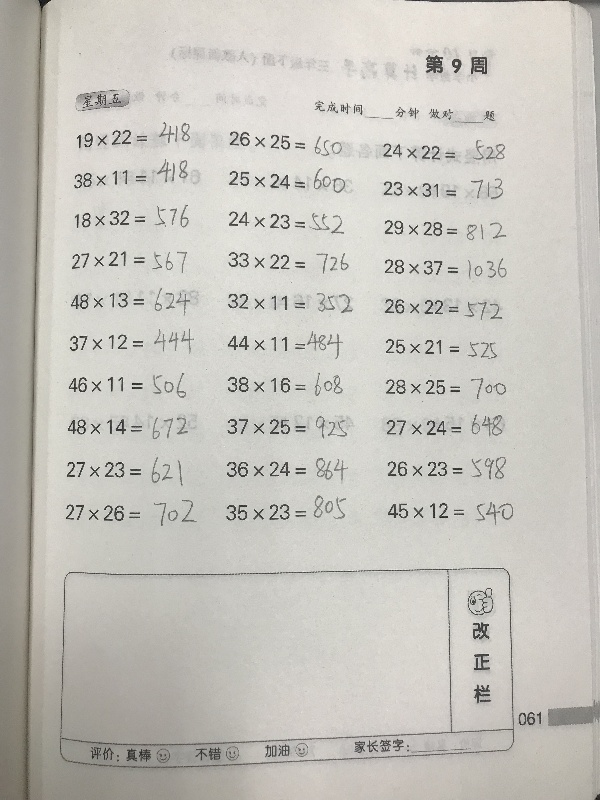equation: (63, 494, 197, 529), (70, 155, 198, 190), (222, 491, 349, 524), (224, 324, 346, 358), (68, 323, 195, 355), (226, 283, 353, 315), (225, 244, 352, 276), (224, 412, 355, 443), (65, 370, 191, 402), (65, 409, 191, 441), (63, 454, 189, 486), (379, 137, 509, 168), (382, 175, 512, 206), (384, 496, 517, 526), (222, 452, 351, 482), (383, 455, 511, 485), (224, 369, 347, 400), (71, 201, 193, 232), (227, 164, 353, 194), (384, 411, 509, 441), (226, 128, 349, 158), (68, 248, 191, 277), (69, 286, 192, 315), (381, 255, 511, 282), (380, 217, 509, 244), (225, 206, 348, 234), (72, 120, 194, 148), (381, 295, 506, 322), (384, 374, 509, 400), (382, 336, 500, 361)
